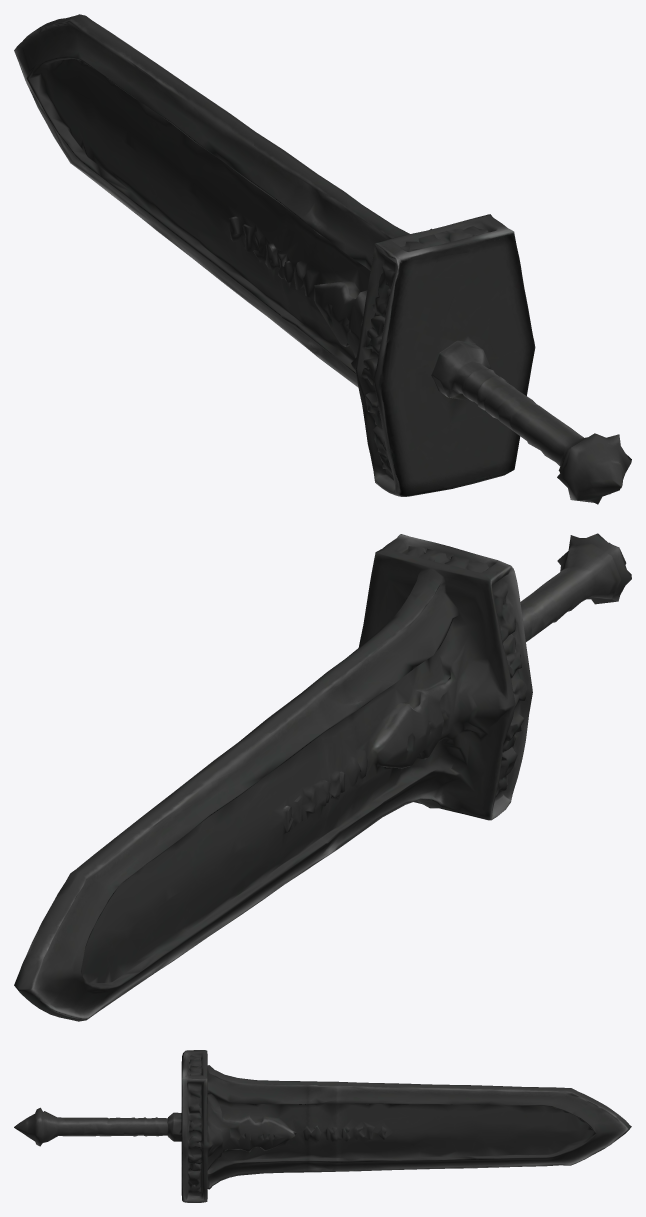
File: weapon.glb
The picture shows the model from 3 angles, top to bottom: view 1: azimuth 30°, elevation 25°; view 2: azimuth 150°, elevation 25°; view 3: azimuth 270°, elevation 25°; orthographic projection. The views are drawn at different scales.
Parts seen in each view (by area): view 1: tripo_node_a39488f2-2d15-4486-afd7-0912c8977a06; view 2: tripo_node_a39488f2-2d15-4486-afd7-0912c8977a06; view 3: tripo_node_a39488f2-2d15-4486-afd7-0912c8977a06.
Boxes of the visible parts, bbox=[...] form: tripo_node_a39488f2-2d15-4486-afd7-0912c8977a06: bbox=[14, 14, 631, 504]; tripo_node_a39488f2-2d15-4486-afd7-0912c8977a06: bbox=[14, 533, 631, 1021]; tripo_node_a39488f2-2d15-4486-afd7-0912c8977a06: bbox=[14, 1050, 631, 1202].
Size of the model in its own units: 0.1531 by 0.2253 by 1.
1 material, 1 textured.
